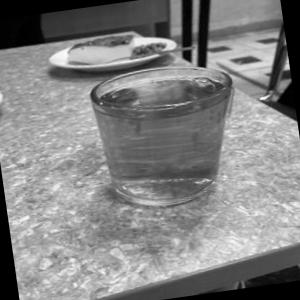casserole: (59, 14, 191, 86)
tea: (88, 56, 251, 212)
